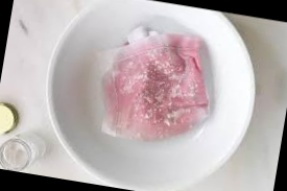wine: (100, 34, 214, 132)
